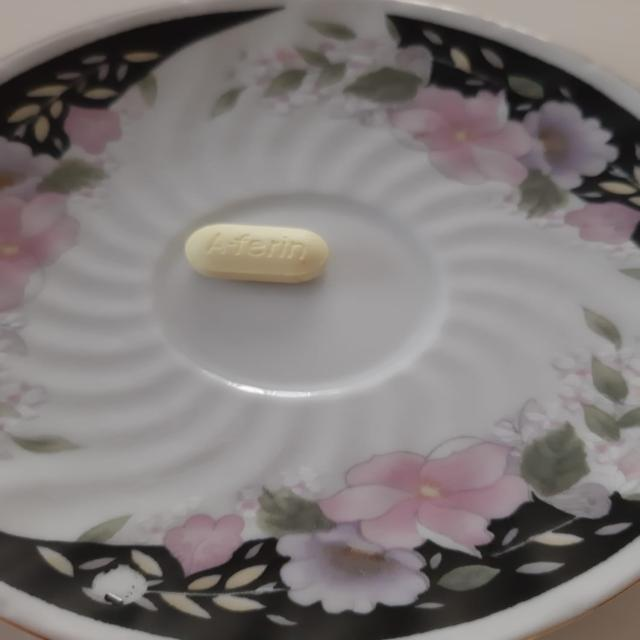pills: (161, 211, 345, 296)
